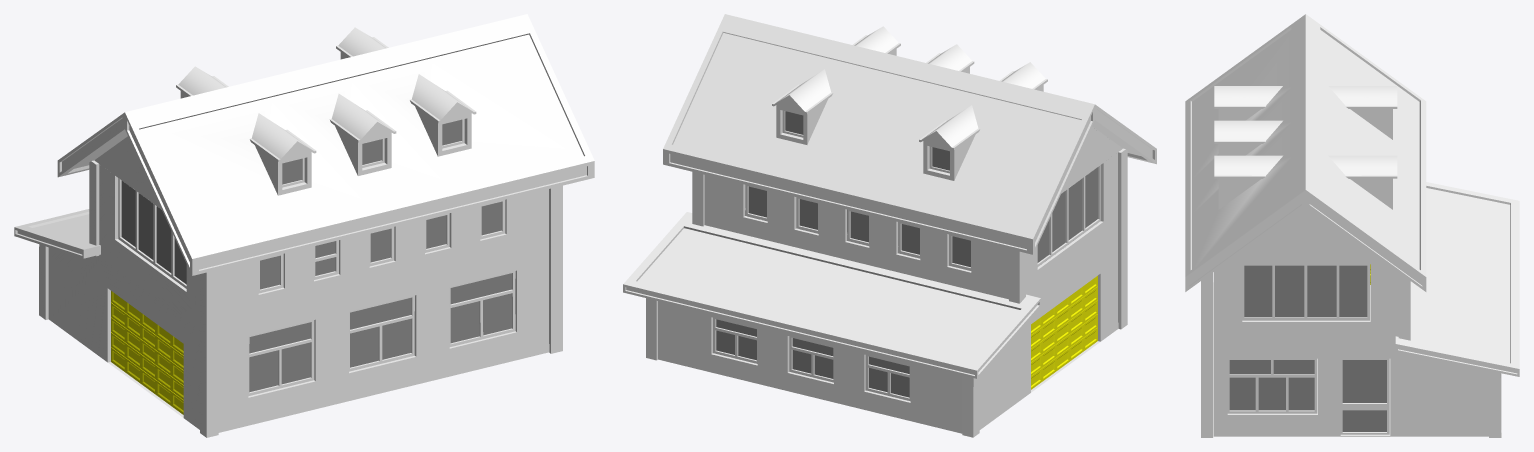
The model's file is House_1.fbx.
3 renders of one model, left to right at view 1: azimuth 30°, elevation 25°; view 2: azimuth 150°, elevation 25°; view 3: azimuth 270°, elevation 25°, orthographic. The views are drawn at different scales.
Visible parts, largest first — view 1: House_1; view 2: House_1; view 3: House_1.
Part boxes in pixels (x1,y1,x2,y2): House_1: [14, 14, 594, 437]; House_1: [623, 14, 1156, 437]; House_1: [1185, 14, 1519, 437].
Size of the model in its own units: 2300 by 1575 by 1848.
